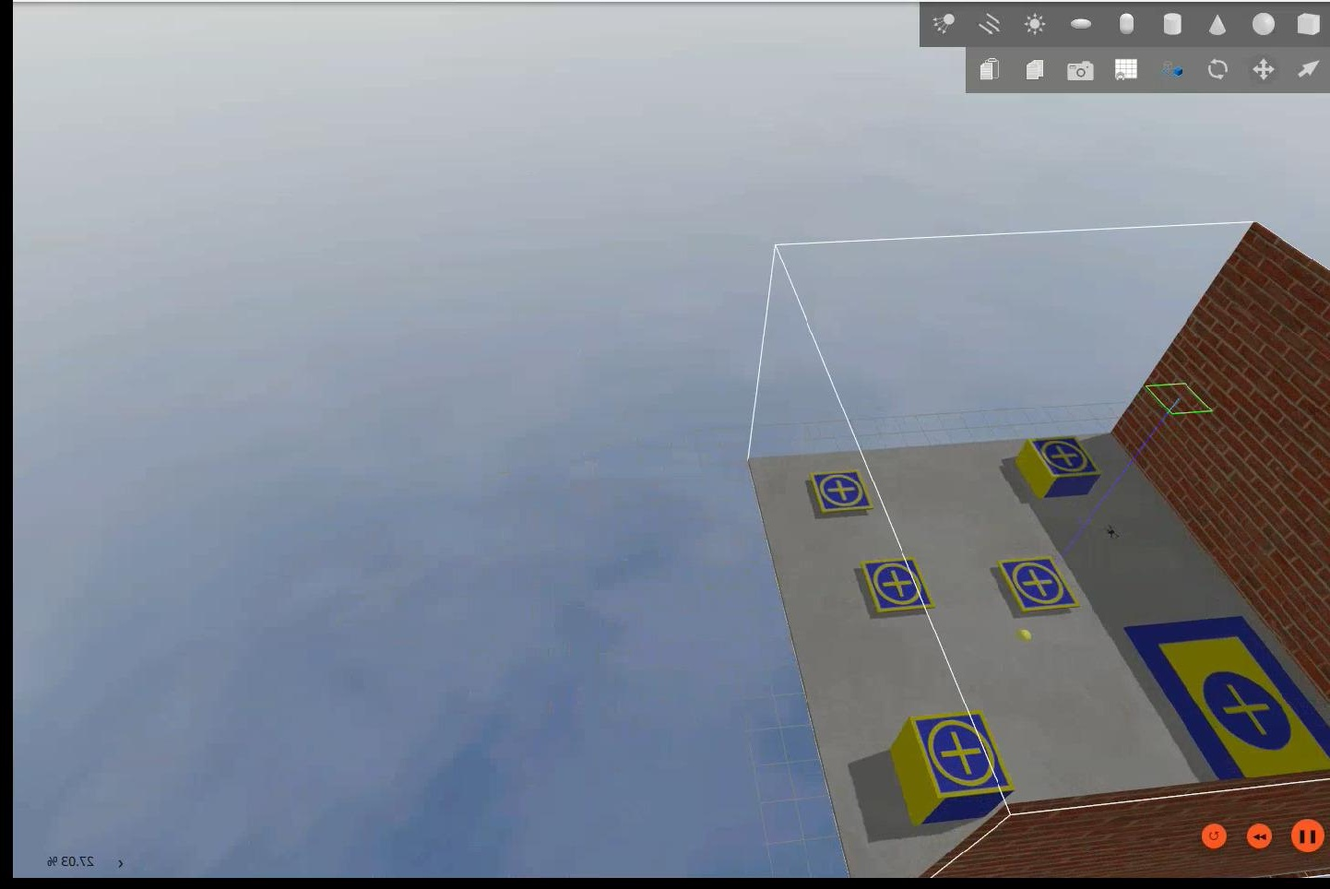large_base: (1123, 616, 1328, 784)
small_base: (907, 713, 1009, 798), (853, 557, 931, 619), (993, 560, 1078, 610), (804, 468, 874, 516), (1026, 435, 1097, 480)
